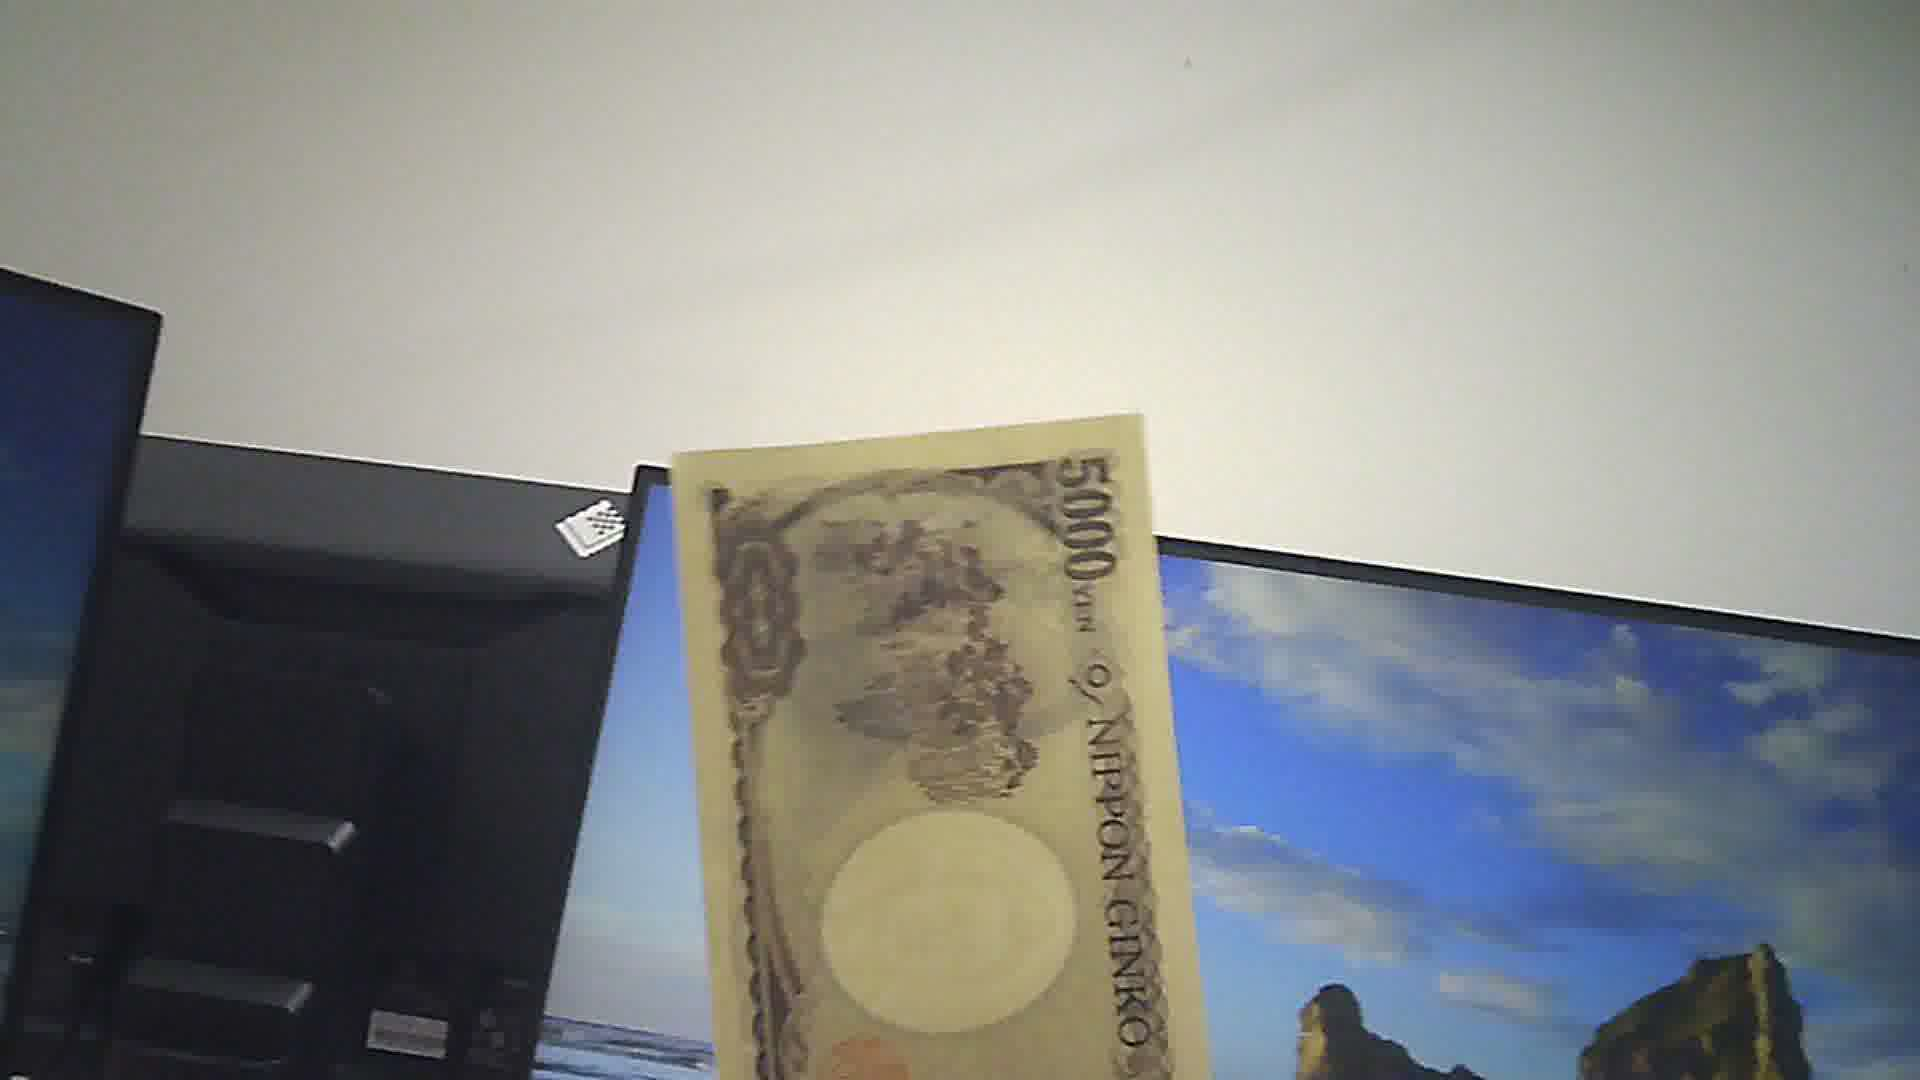5,000 Yen: (659, 410, 1192, 1079)
